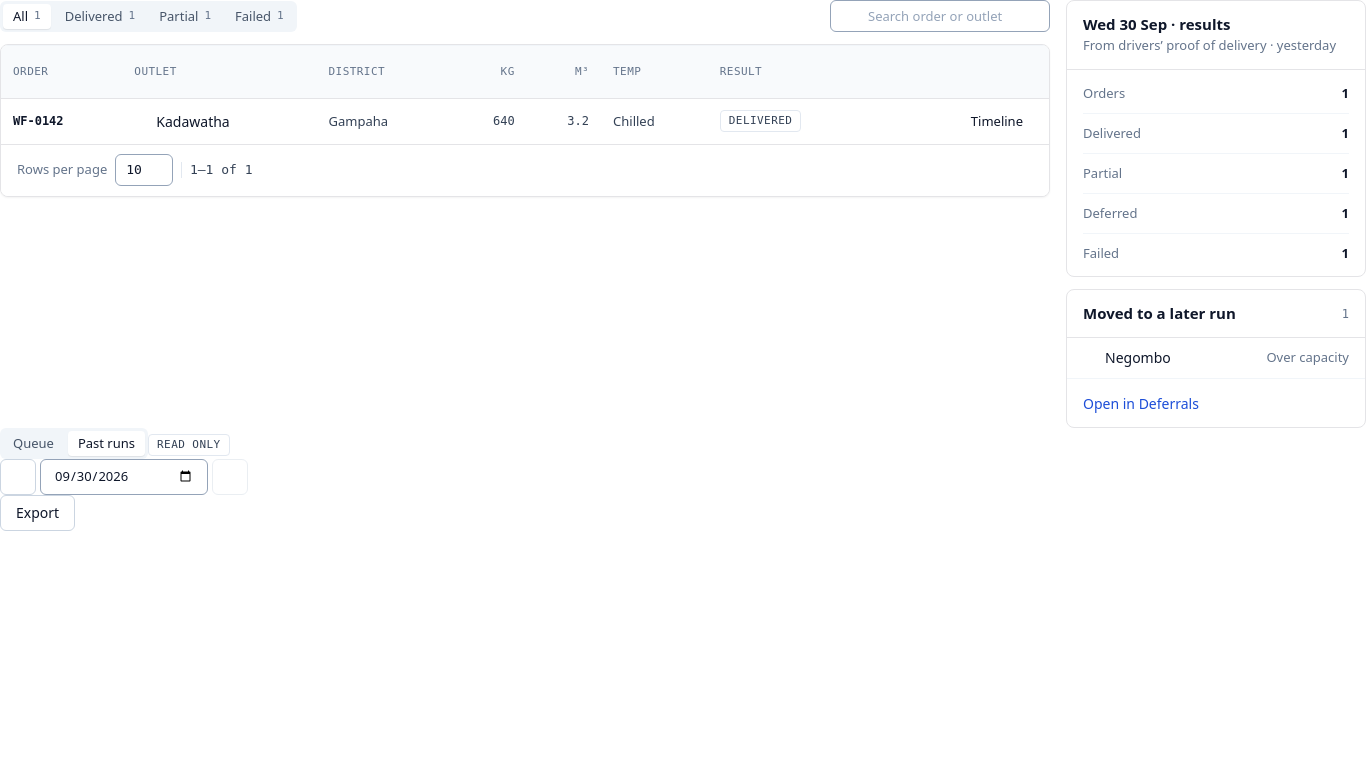
Scenario: 04 Past orders › AC-ORD-31 searches by order number or outlet and opens the order’s timeline
Type "kadawatha" into the search field labelled "Search order or outlet" at (940, 16), box top-left (830, 0), bottom-right (1050, 32)
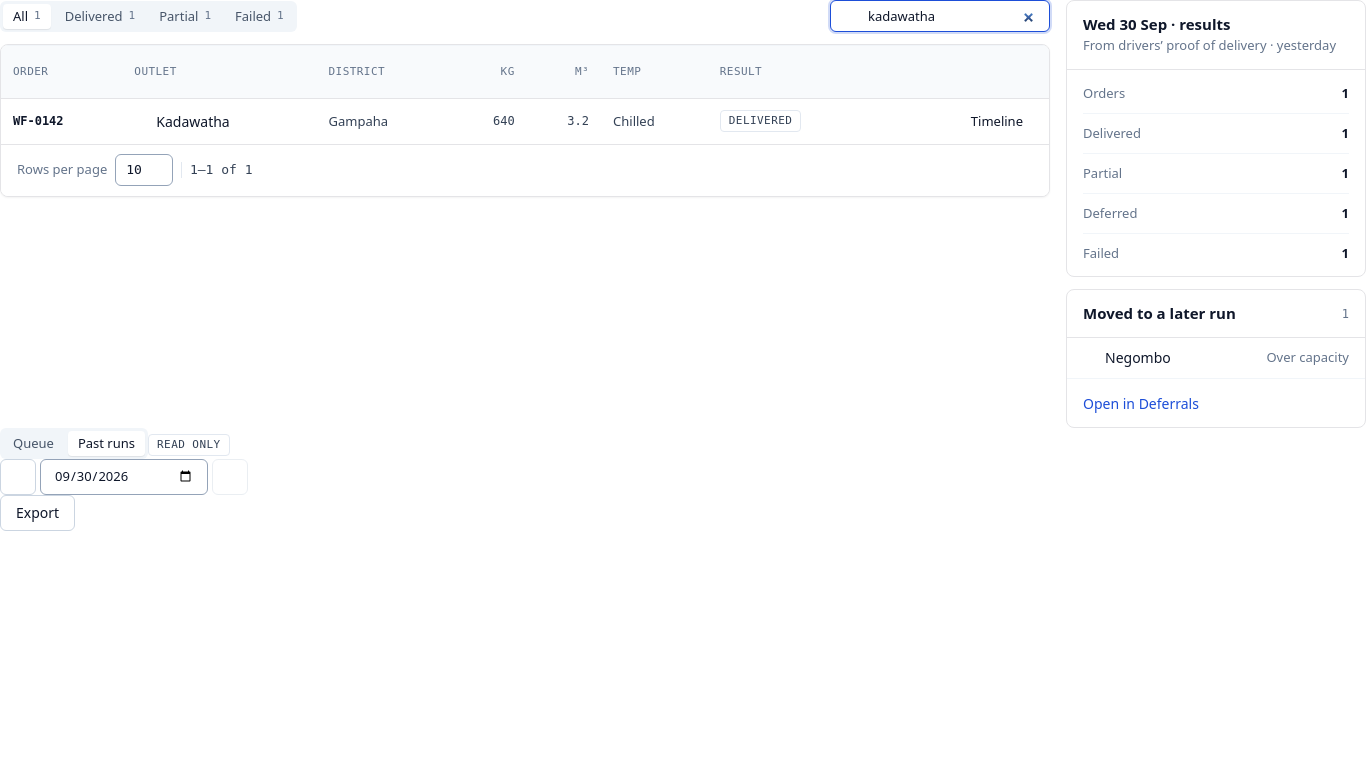
Click the button "Timeline" at (997, 121), box top-left (957, 105), bottom-right (1037, 137)
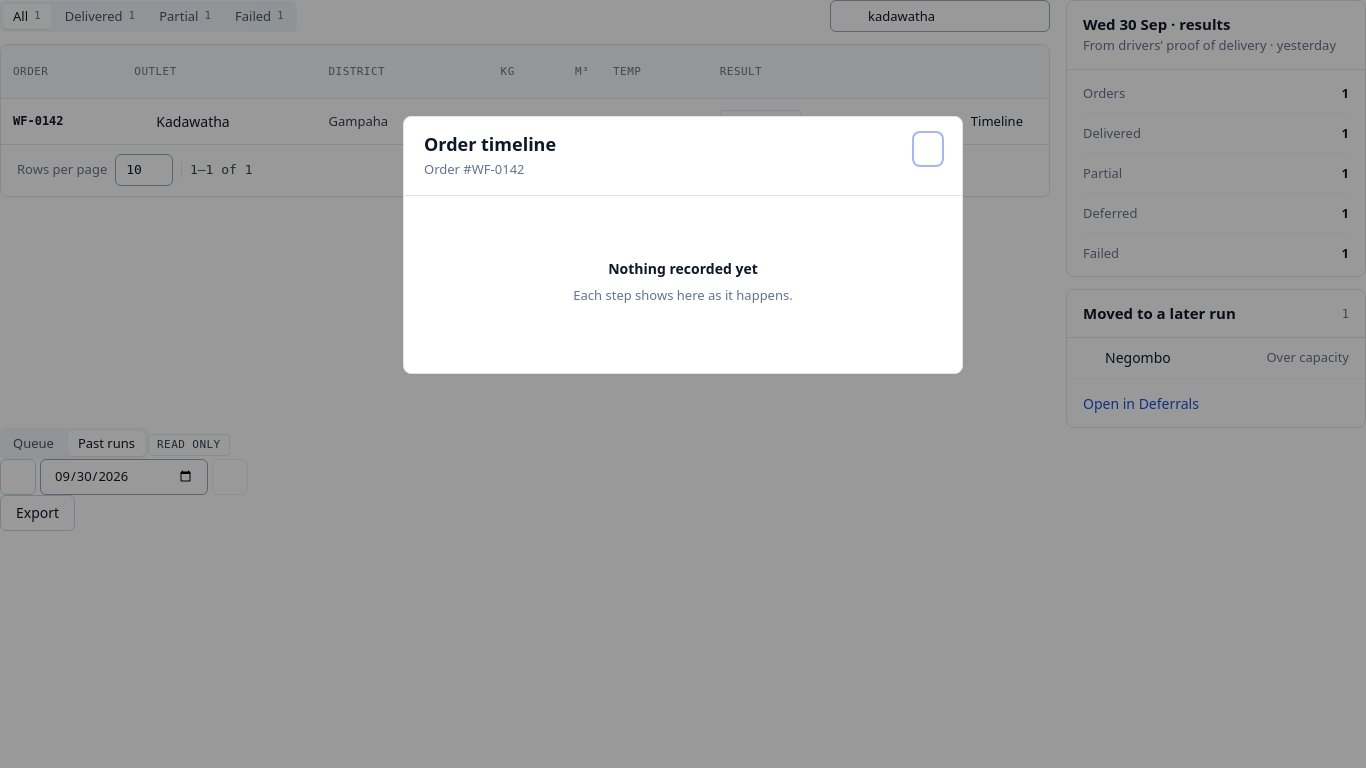
Check: the text "Order #WF-0142" is shown, box top-left (424, 160), bottom-right (524, 178)
